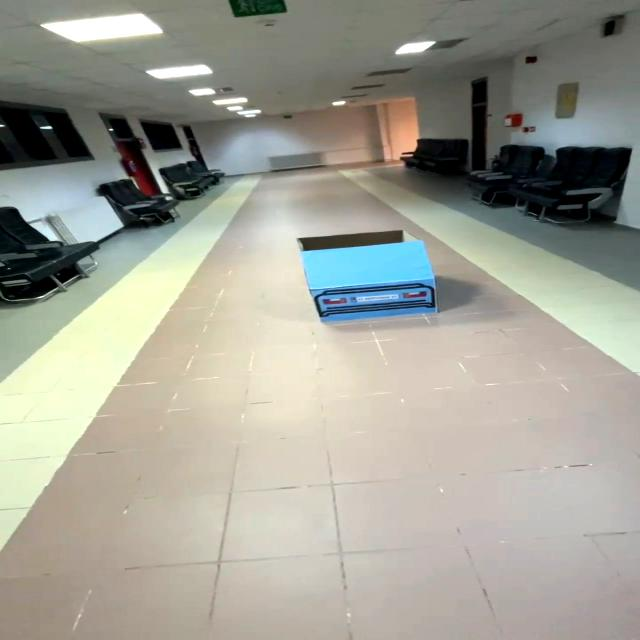blue_car: (286, 218, 462, 333)
